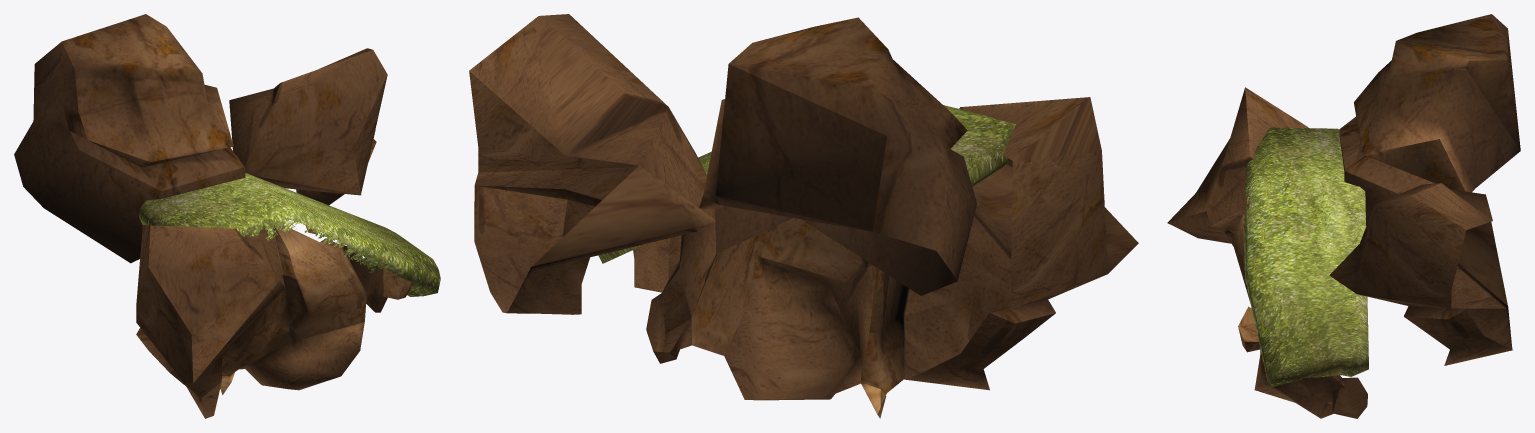
Rendered from Rocher_Descente.FBX.
3 views of the same model, side by side, from view 1: azimuth 30°, elevation 25°; view 2: azimuth 150°, elevation 25°; view 3: azimuth 270°, elevation 25° (orthographic). The views are drawn at different scales.
Parts seen in each view (by area): view 1: Bloc_Descente; view 2: Bloc_Descente; view 3: Bloc_Descente.
Boxes of the visible parts, x1,y1,x2,y2 form: Bloc_Descente: (14, 14, 440, 418); Bloc_Descente: (469, 14, 1138, 418); Bloc_Descente: (1167, 14, 1520, 418).
Size of the model in its own units: 44.12 by 39.41 by 38.75.
